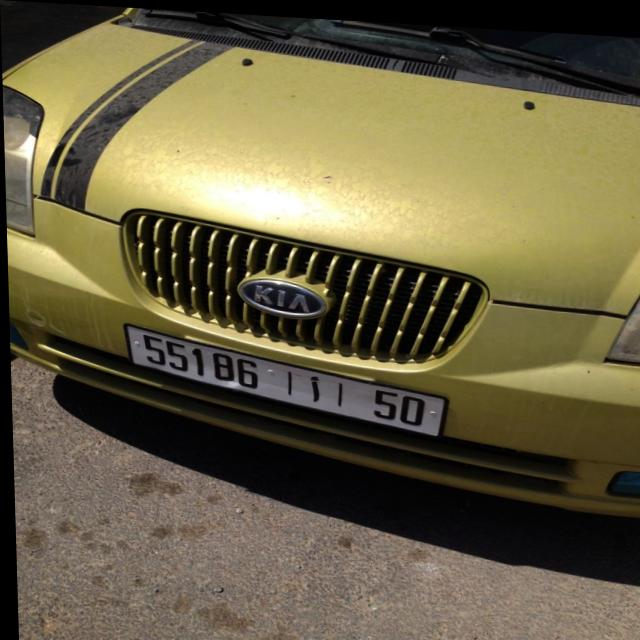License-Plate: (124, 324, 444, 431)
